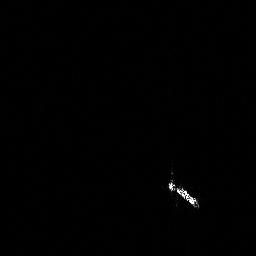ship: (164, 176, 202, 211)
